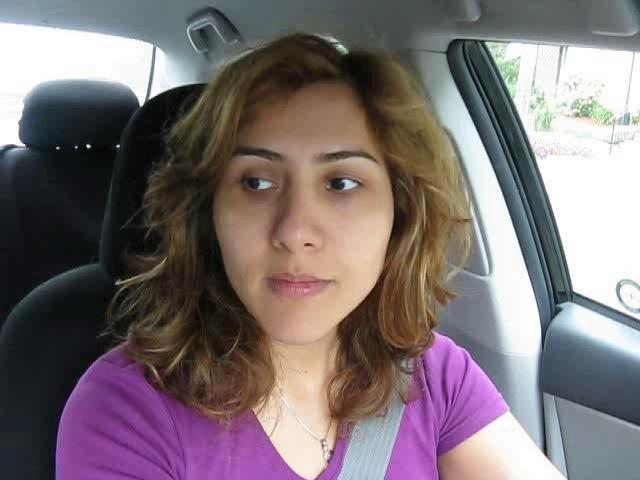eye_open: (317, 168, 370, 202), (230, 165, 281, 200)
face: (210, 121, 398, 348)
